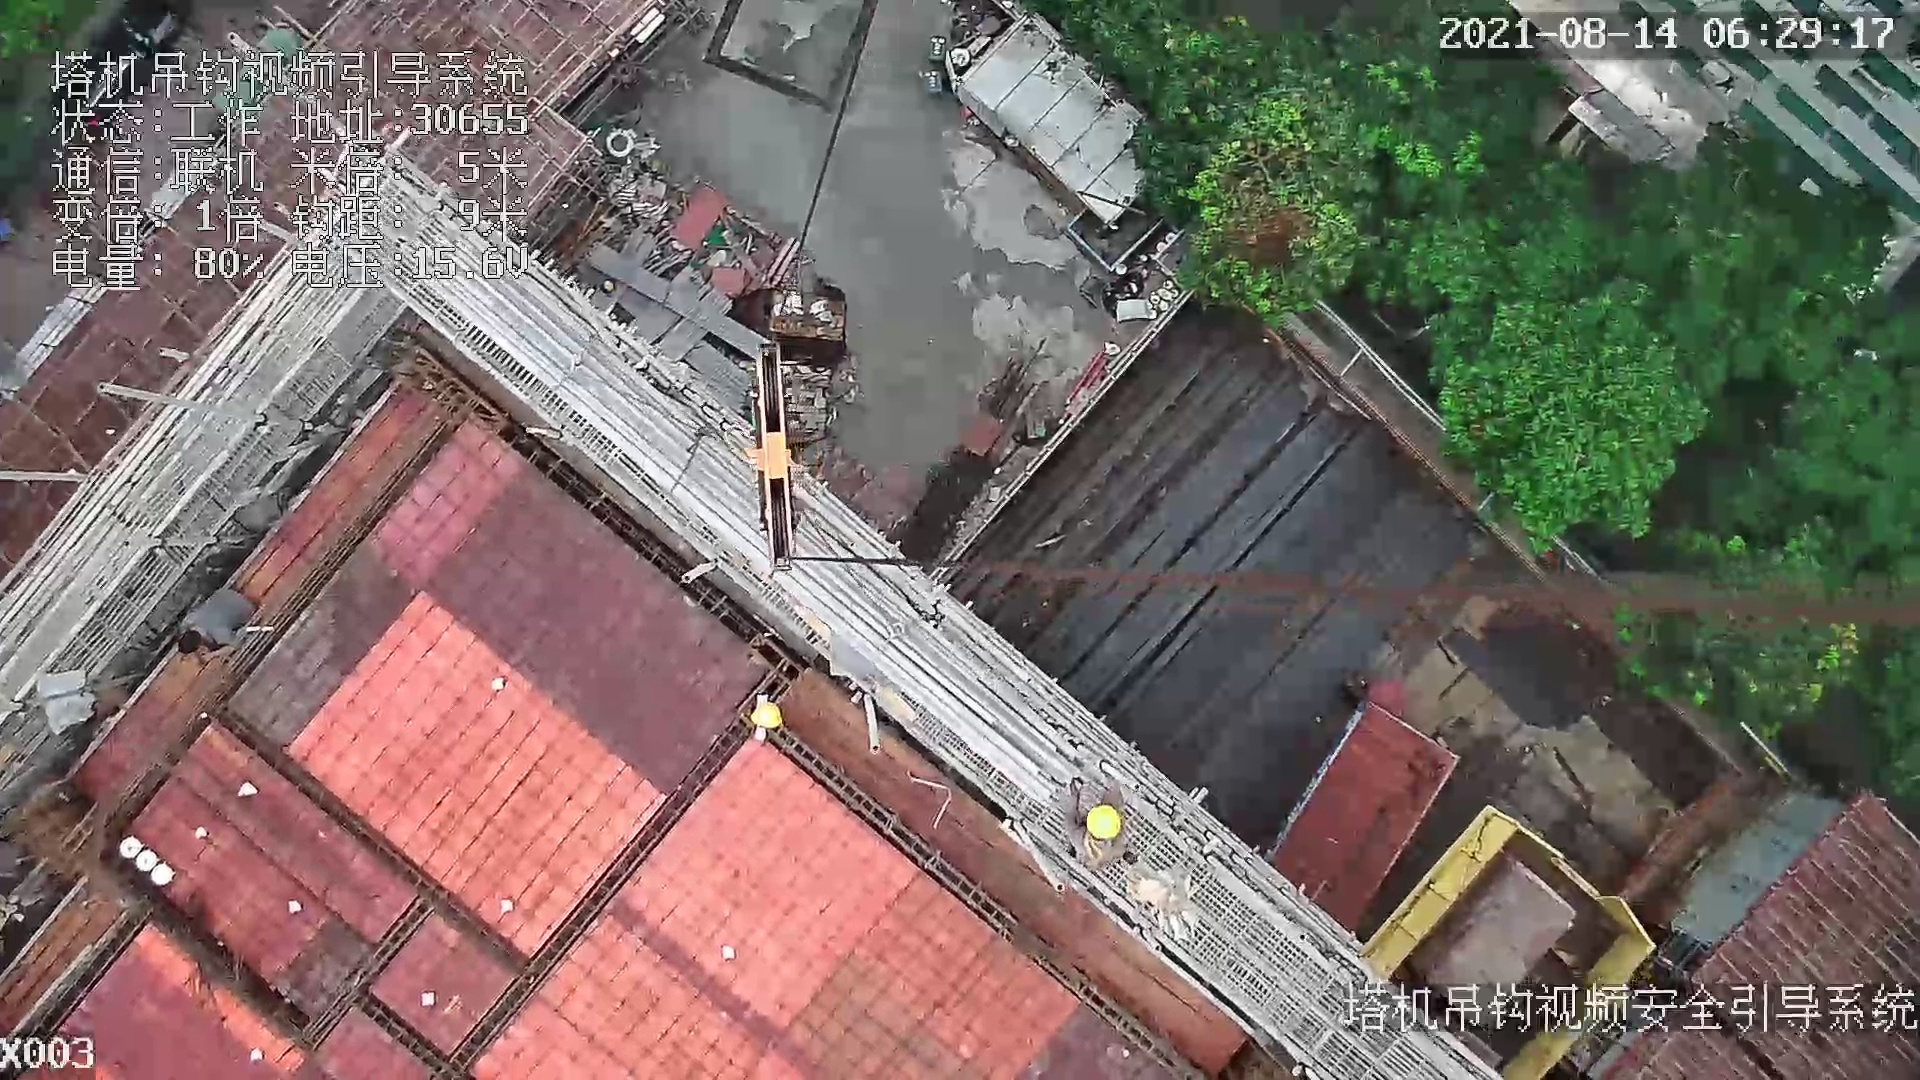helmet: (1087, 799, 1126, 845), (742, 699, 787, 732)
hook: (740, 342, 803, 576)
person: (1051, 782, 1140, 886)
rebar: (968, 287, 1485, 777)
